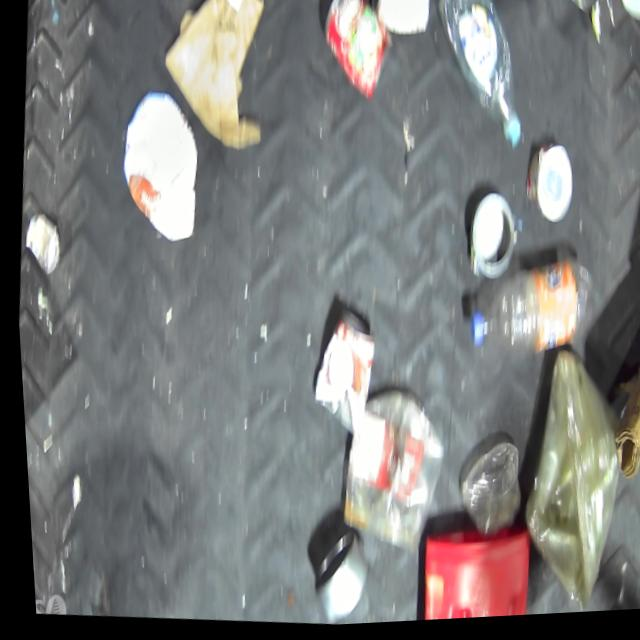can: (301, 307, 376, 438), (314, 0, 398, 106), (298, 531, 364, 629), (459, 194, 515, 286), (516, 144, 574, 230), (365, 0, 431, 42), (557, 0, 610, 18)
milk_jug: (110, 88, 204, 245)
non_white_jug: (407, 524, 525, 624)
plastic_bottle: (424, 0, 532, 159), (460, 258, 581, 361)
